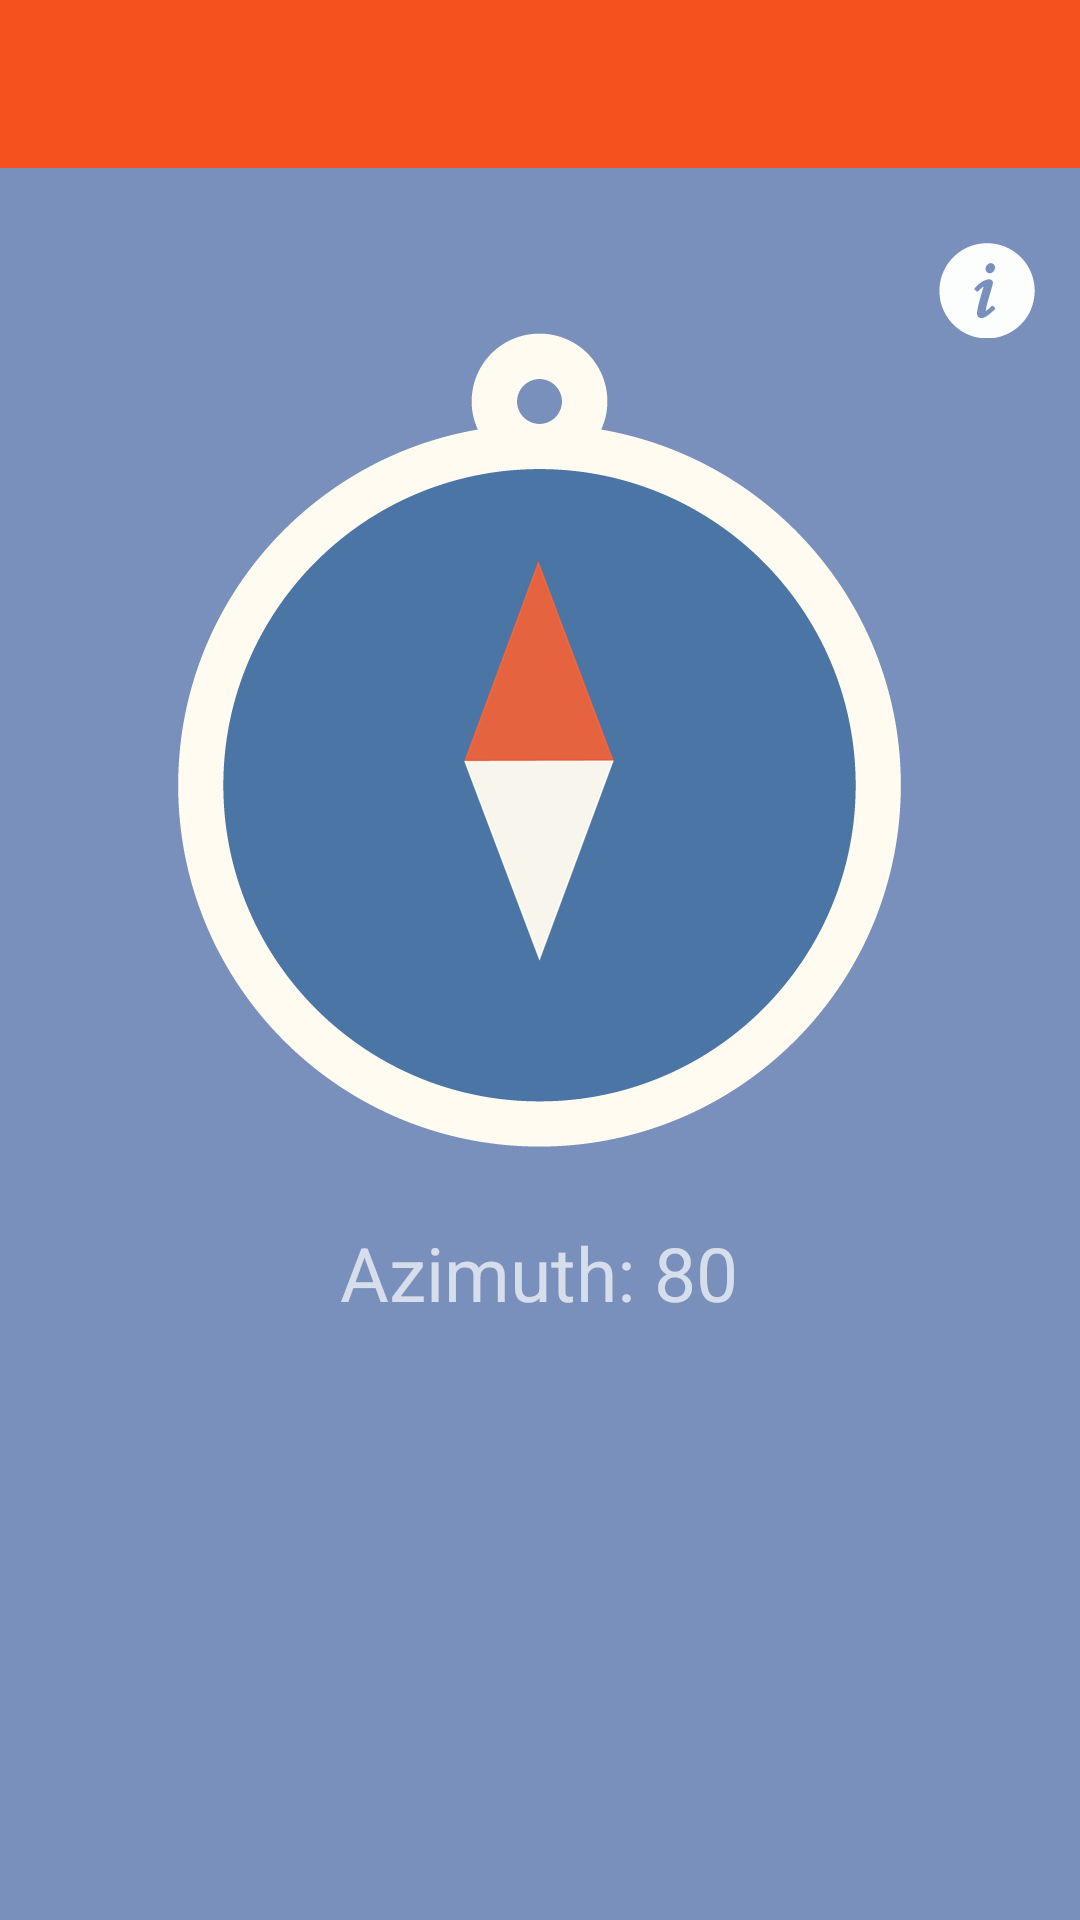

Where icons sit on this 1080x1920 app screen, as (x1, y1, x2, y2):
info: (939, 243, 1035, 338)
